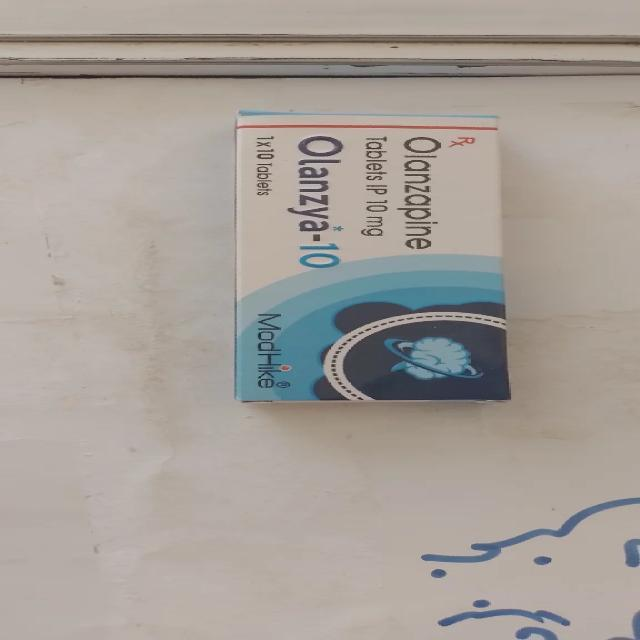drug-name: (286, 133, 350, 270)
